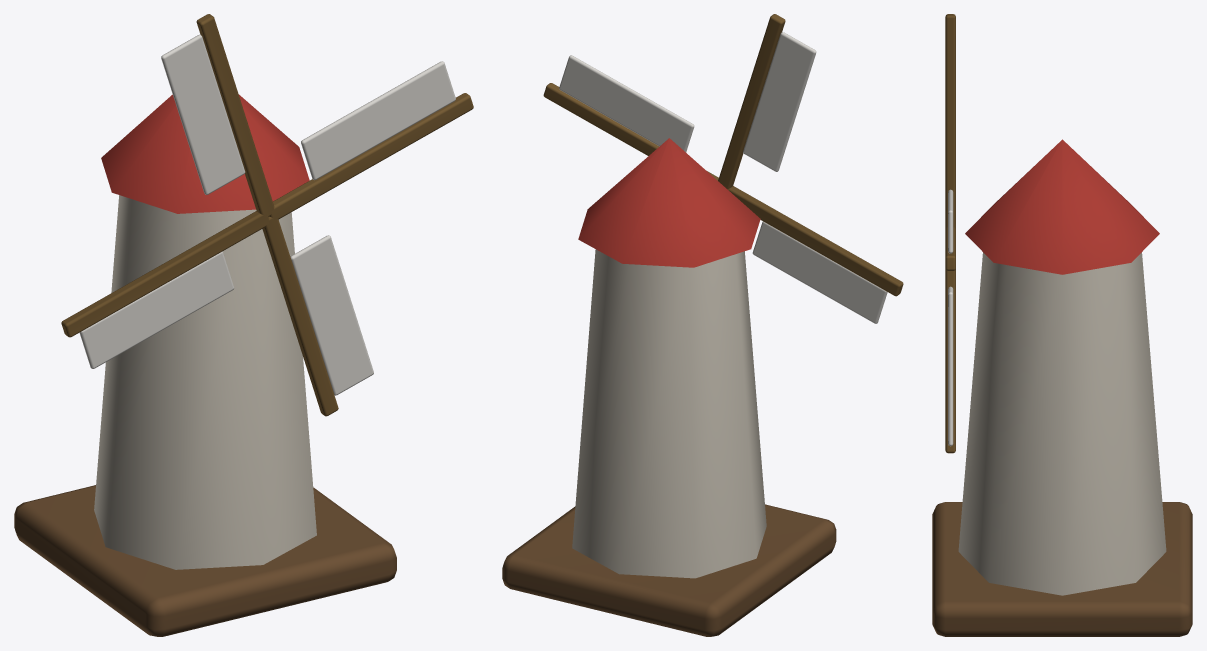
File: furn_mini_windmill.glb
3 renders of one model, left to right at view 1: azimuth 30°, elevation 25°; view 2: azimuth 150°, elevation 25°; view 3: azimuth 270°, elevation 25°, orthographic. The views are drawn at different scales.
Parts seen in each view (by area): view 1: furn_mini_windmill_main; view 2: furn_mini_windmill_main; view 3: furn_mini_windmill_main.
Boxes of the visible parts, <box> form: furn_mini_windmill_main: <box>14,14,473,636</box>; furn_mini_windmill_main: <box>502,14,903,636</box>; furn_mini_windmill_main: <box>932,14,1192,636</box>.
Size of the model in its own units: 0.3272 by 0.4636 by 0.2.
